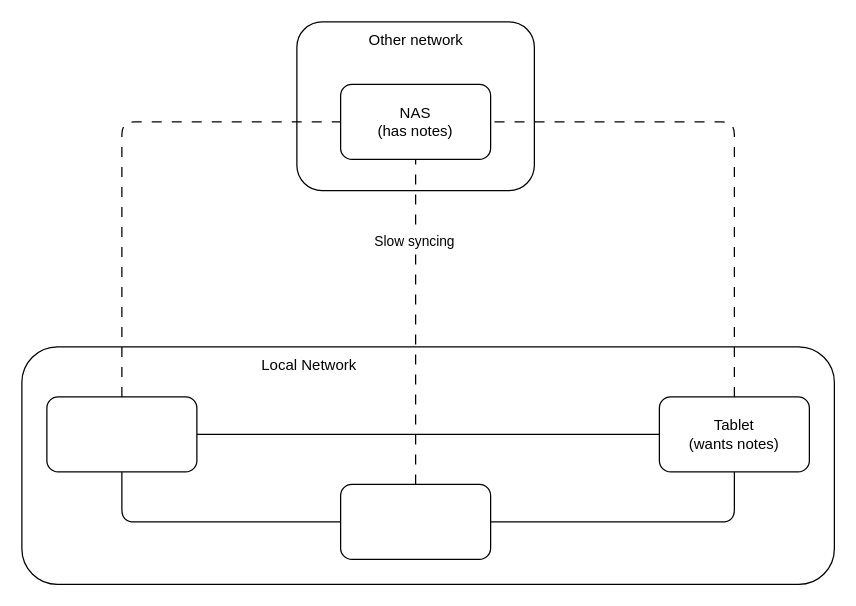
Some shapes in this 856 by 606 pixel diagram are drawn without their labels. The shapes that lost their labels are listed below. From the top down, each one's centre as x and y in pixels, then its label:
At [121,434]: "PC (has notes)".
At [415,521]: "Phone".
